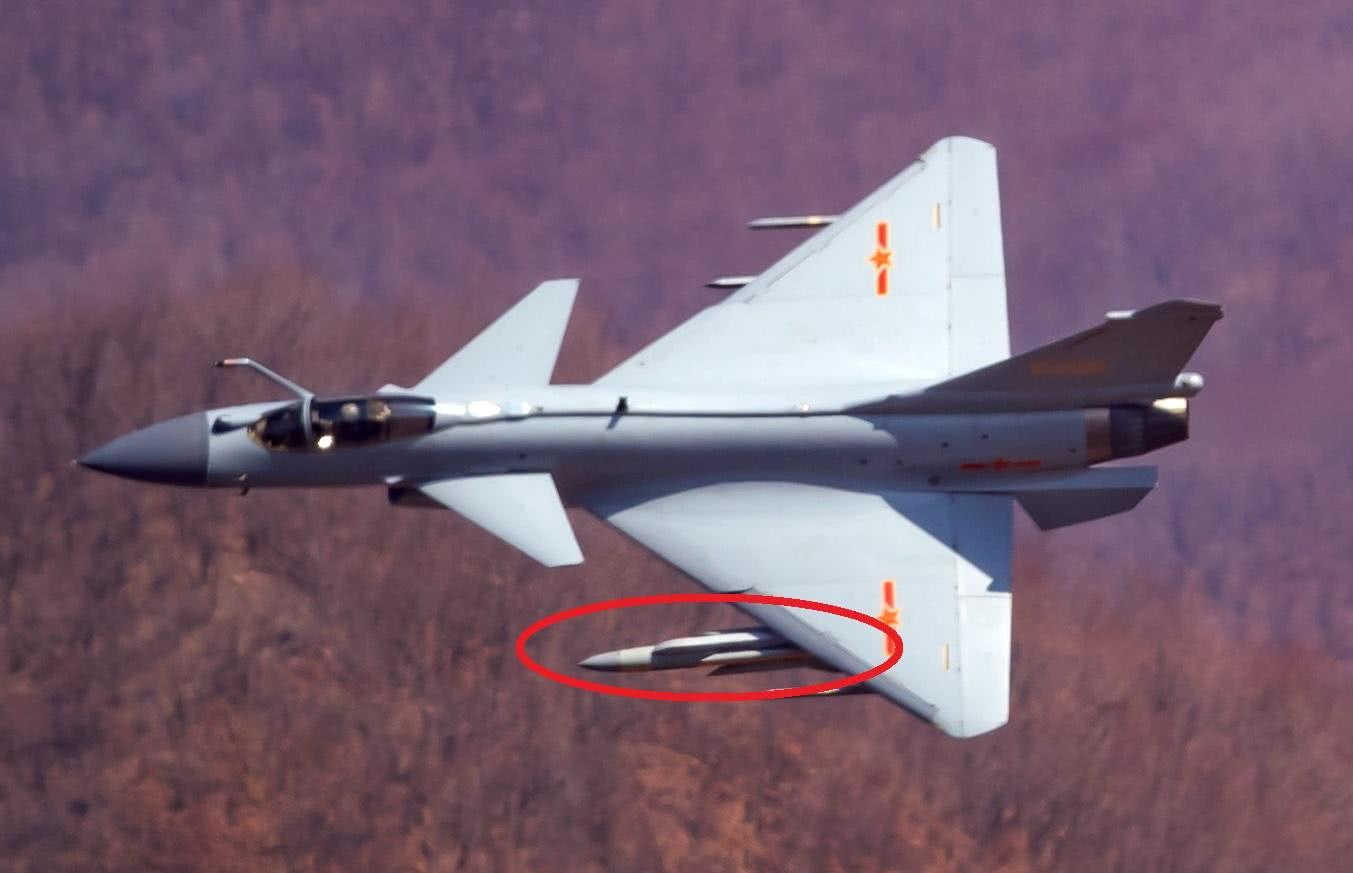airplane: (36, 106, 1259, 762)
